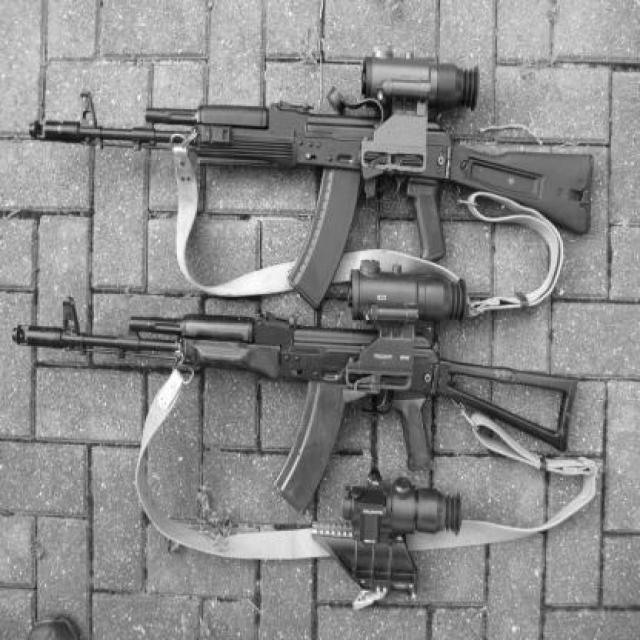weapon: (23, 53, 595, 313), (11, 260, 578, 517)
